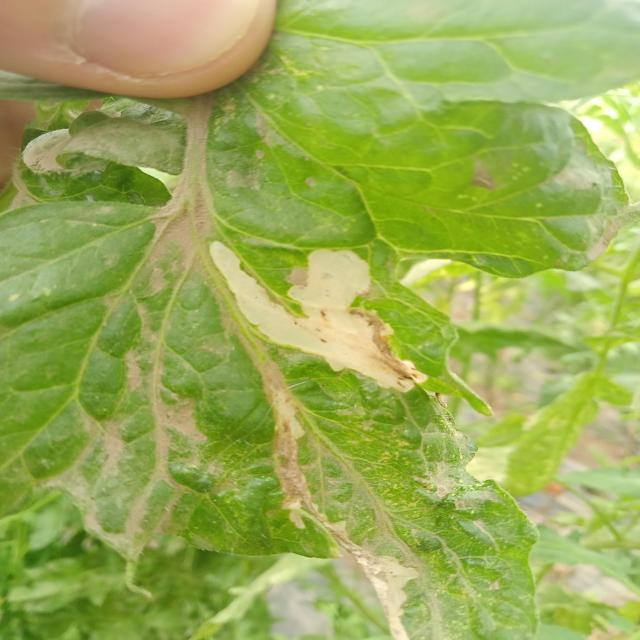Tuta absoluta: (185, 195, 463, 409)
